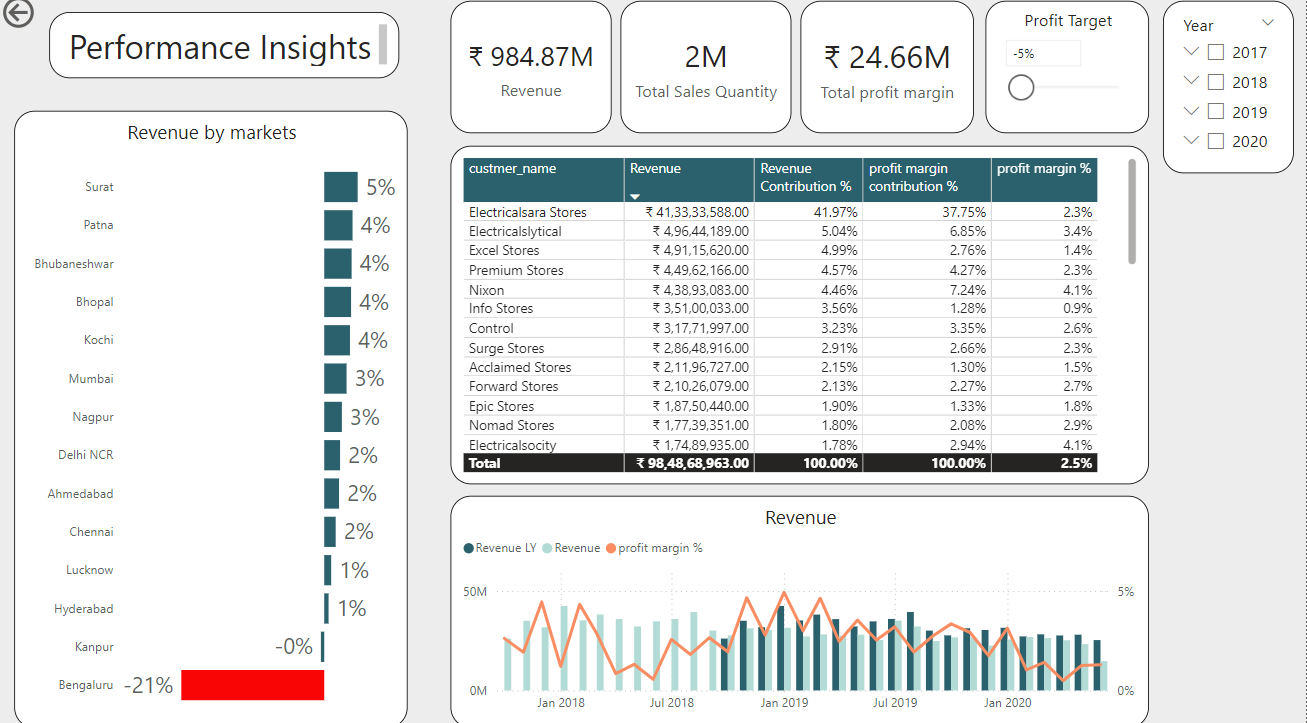

The dashboard page shown, as its layout file describes it:
{"tool":"powerbi","page":{"name":"Performance Insights","canvas":[1280,720],"ordinal":2},"visuals":[{"type":"barChart","title":"Revenue by markets","fields":{"Category":["Markets.zone","Query3.markets_name","Customers.custmer_name"],"Y":["Customers.profit margin %"]},"box":[15.9,116.2,385.2,604.1],"z":0},{"type":"lineClusteredColumnComboChart","title":"Revenue","fields":{"Category":["Date.cy_date"],"Y":["New measures.Revenue LY","New measures.Revenue"],"Y2":["Customers.profit margin %"]},"box":[442.7,492.8,683.6,227.4],"z":1000},{"type":"slicer","fields":{"Values":["Date.cy_date.Variation.Date Hierarchy.Year","Date.cy_date.Variation.Date Hierarchy.Quarter","Date.cy_date.Variation.Date Hierarchy.Month","Date.cy_date.Variation.Date Hierarchy.Day"]},"box":[1139.7,8.6,128.4,168.8],"z":2000},{"type":"slicer","title":"Profit Target","fields":{"Values":["Profit Target.Profit Target"]},"box":[966,8.6,160.2,129.6],"z":3000},{"type":"actionButton","box":[0,0,100,40],"z":4000},{"type":"tableEx","title":"Top 5 Customers","fields":{"Values":["Query5.custmer_name","New measures.Revenue","Transactions.Revenue Contribution %","Customers.profit margin contribution %","Customers.profit margin %"]},"box":[442.7,150.4,683.6,331.4],"z":5000},{"type":"card","fields":{"Values":["New measures.Revenue"]},"box":[442.7,8.6,157.7,129.6],"z":6000},{"type":"card","fields":{"Values":["Transactions.Total Sales Quantity"]},"box":[609,8.6,167.5,129.6],"z":7000},{"type":"card","fields":{"Values":["Transactions.Total profit margi"]},"box":[785.1,8.6,170,129.6],"z":8000},{"type":"textbox","box":[50.1,19.6,342.4,64.8],"z":9000}]}

Visuals, with their boxes in screenshot pixels (x1, y1, x2, y2), scaled from the page's 1280x720 canvas onto the 1307x723 screenshot:
"Revenue by markets" barChart: select_region(16, 117, 410, 722)
"Revenue" lineClusteredColumnComboChart: select_region(452, 495, 1150, 722)
slicer - Date.cy_date.Variation.Date Hierarchy.Year x Date.cy_date.Variation.Date Hierarchy.Quarter: select_region(1164, 9, 1295, 178)
"Profit Target" slicer: select_region(986, 9, 1150, 139)
actionButton: select_region(0, 0, 102, 40)
"Top 5 Customers" tableEx: select_region(452, 151, 1150, 484)
card - New measures.Revenue: select_region(452, 9, 613, 139)
card - Transactions.Total Sales Quantity: select_region(622, 9, 793, 139)
card - Transactions.Total profit margi: select_region(802, 9, 975, 139)
textbox: select_region(51, 20, 401, 85)
